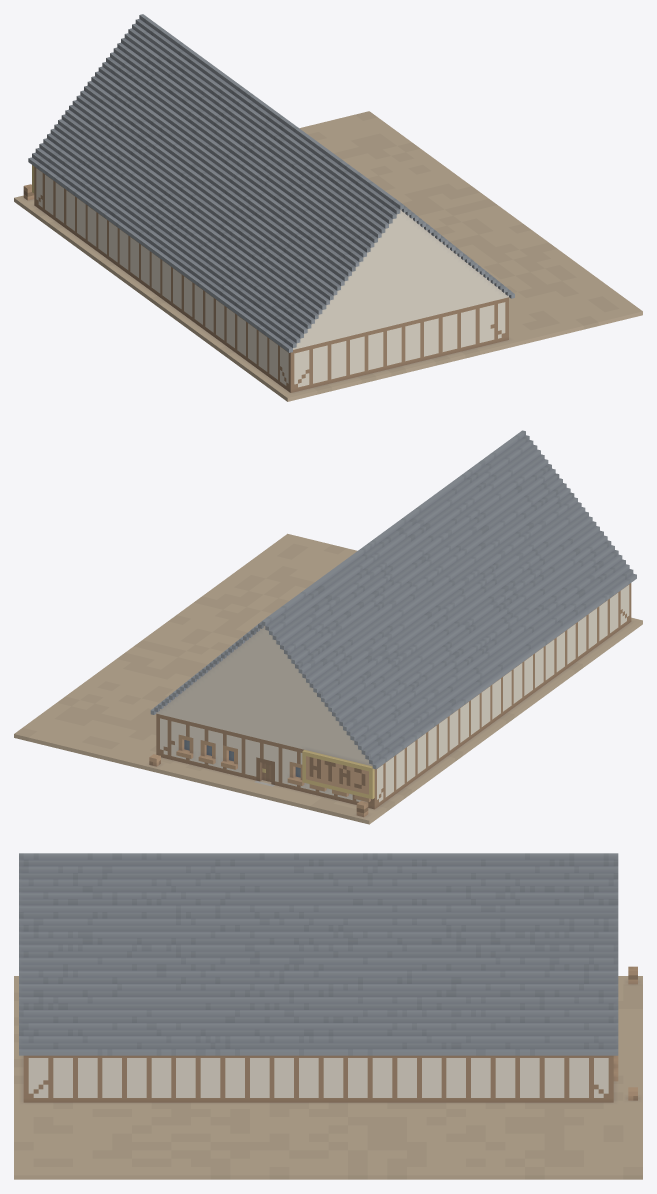
Rendered from cathedral.glb.
The picture shows the model from 3 angles, top to bottom: view 1: azimuth 30°, elevation 25°; view 2: azimuth 150°, elevation 25°; view 3: azimuth 270°, elevation 25°; orthographic projection. The views are drawn at different scales.
Parts seen in each view (by area): view 1: cathedral; view 2: cathedral; view 3: cathedral.
Part boxes in pixels (x1,y1,x2,y2): cathedral: (14,14,642,401); cathedral: (14,430,642,824); cathedral: (14,853,642,1179).
Bounding box in the file's own units: 12 × 5.38 × 16.
